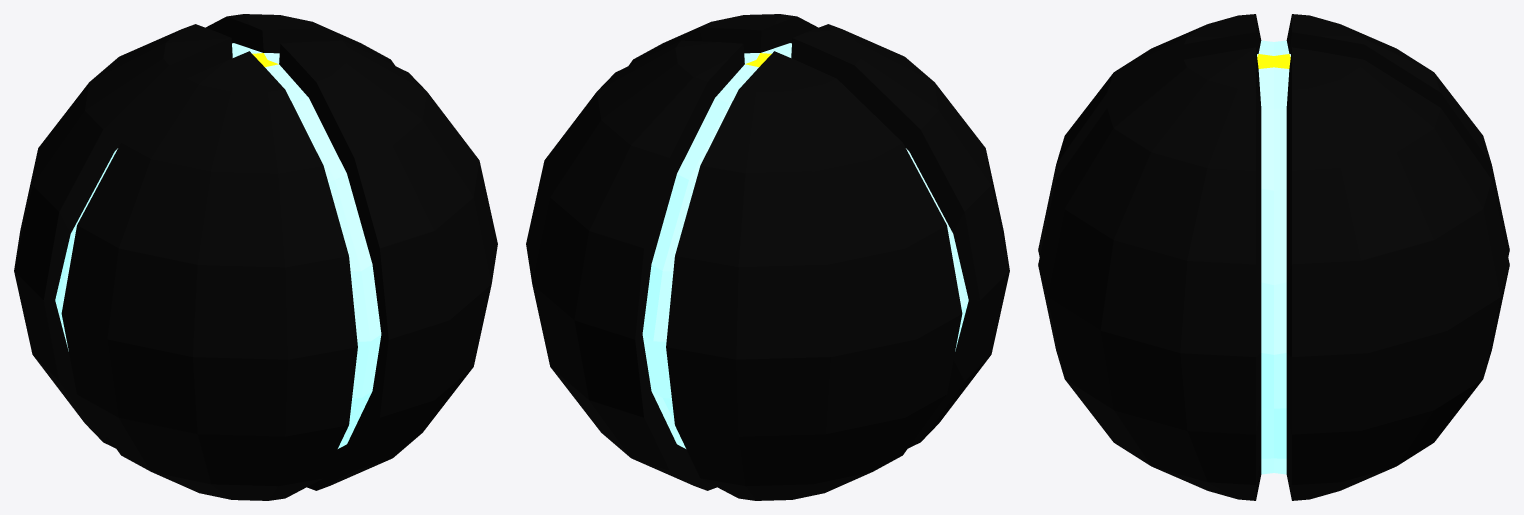
Rendered from Exo Ball.fbx.
3 renders of one model, left to right at view 1: azimuth 30°, elevation 25°; view 2: azimuth 150°, elevation 25°; view 3: azimuth 270°, elevation 25°, orthographic.
Parts seen in each view (by area): view 1: Sphere; view 2: Sphere; view 3: Sphere.
Part boxes in pixels (x1,y1,x2,y2): Sphere: [14, 14, 497, 500]; Sphere: [526, 14, 1009, 500]; Sphere: [1038, 14, 1509, 500].
Bounding box in the file's own units: 192 × 196 × 192.
